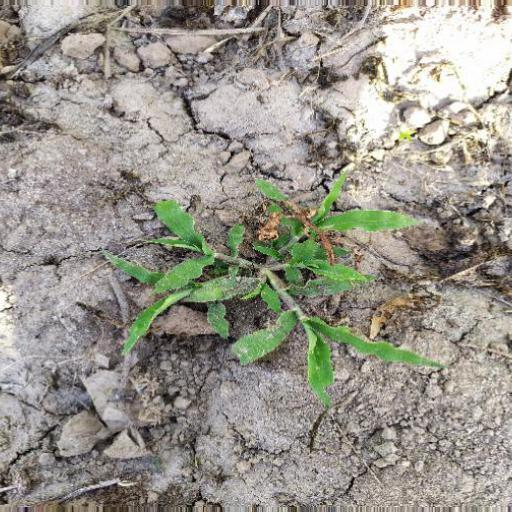weed: (99, 168, 441, 405)
